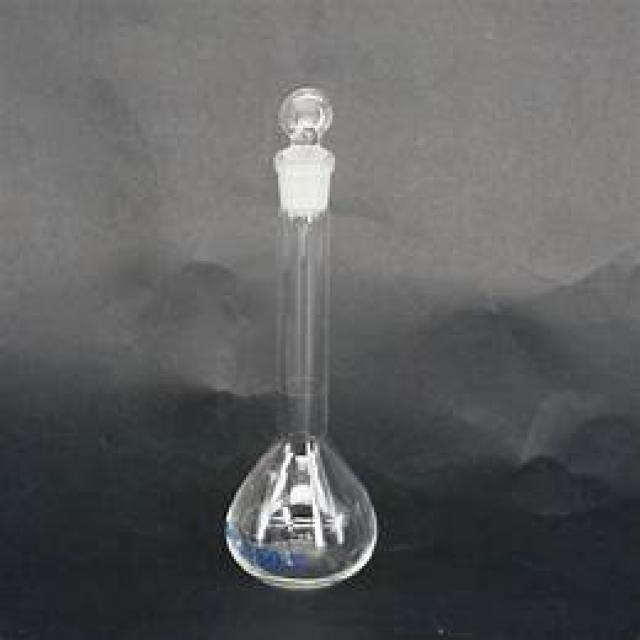Volumetric flask: (220, 65, 382, 587)
